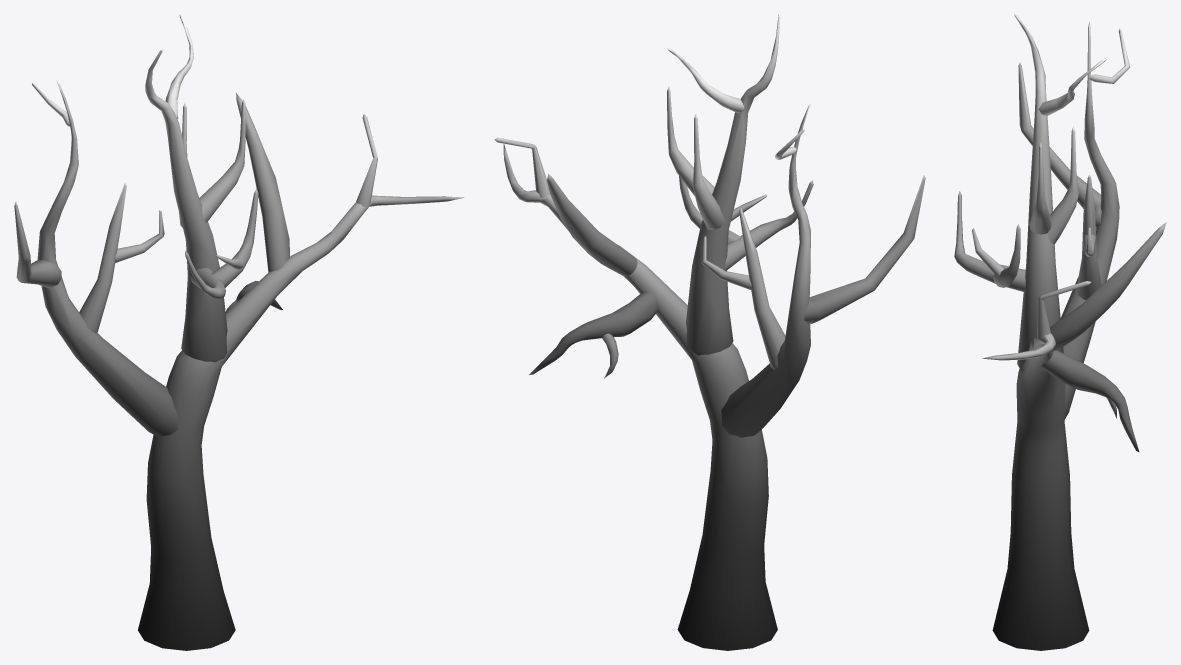
File: Arvore2.fbx
The picture shows the model from 3 angles, left to right: view 1: azimuth 30°, elevation 25°; view 2: azimuth 150°, elevation 25°; view 3: azimuth 270°, elevation 25°; orthographic projection. The views are drawn at different scales.
Visible parts, largest first — view 1: Arvore2; view 2: Arvore2; view 3: Arvore2.
Boxes of the visible parts, box(x1,y1,x2,y2) form: Arvore2: box(14, 14, 464, 650); Arvore2: box(494, 14, 925, 650); Arvore2: box(954, 14, 1166, 650).
Size of the model in its own units: 1.75 by 2.33 by 0.7491.
